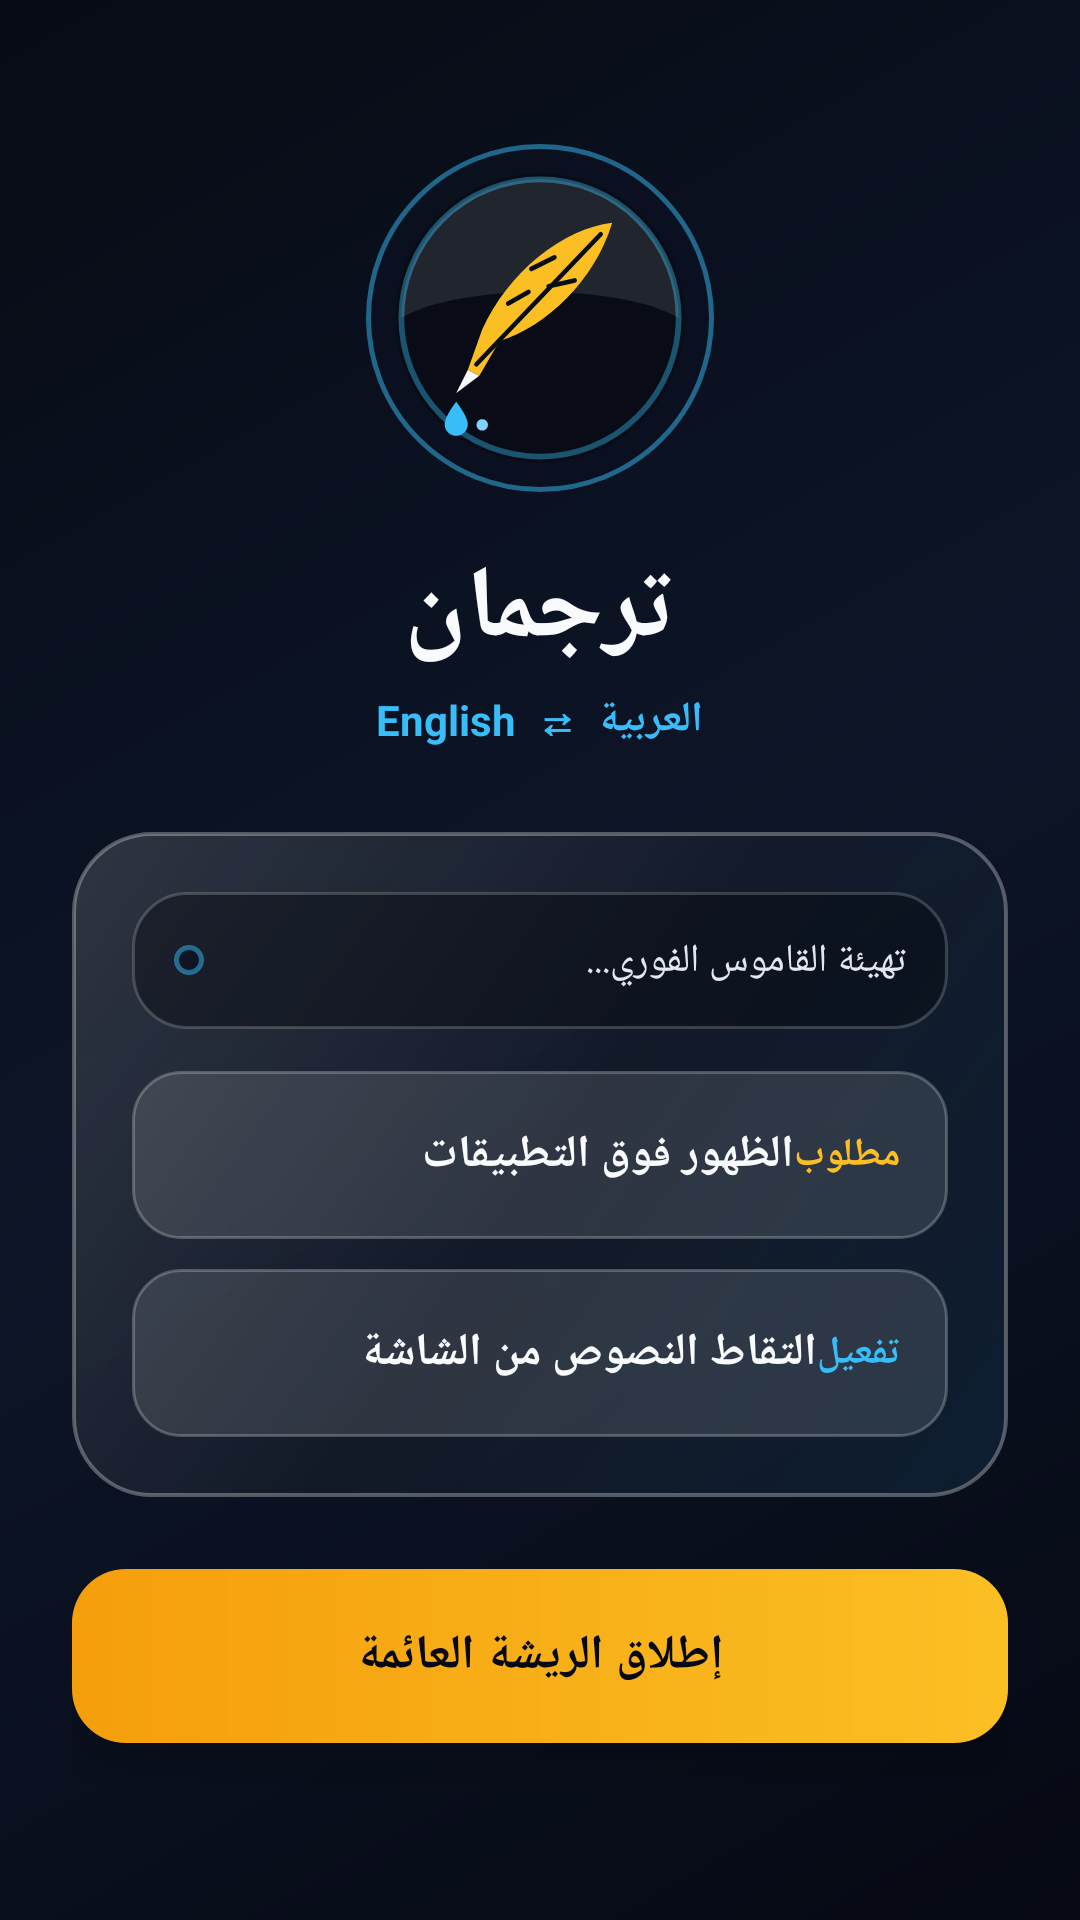

Point at icon controls on the screen. Image size 1080×1920, points as (x=x, y=y).
quill ink: (x=540, y=318)
